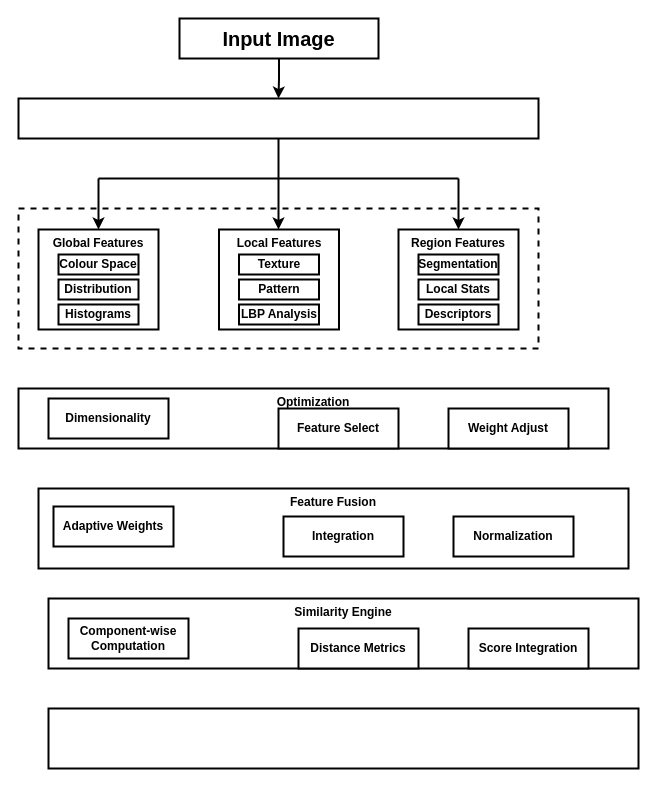
The diagram is 656 pixels wide and 786 high, and some of its shapes have lost their labels. Here are the shapes that lost their labels. From the top down, the centre of each, then its label:
At pixel 278 118: "Normalization and Preprocessing".
At pixel 343 738: "Result Ranking and Retrieval".
